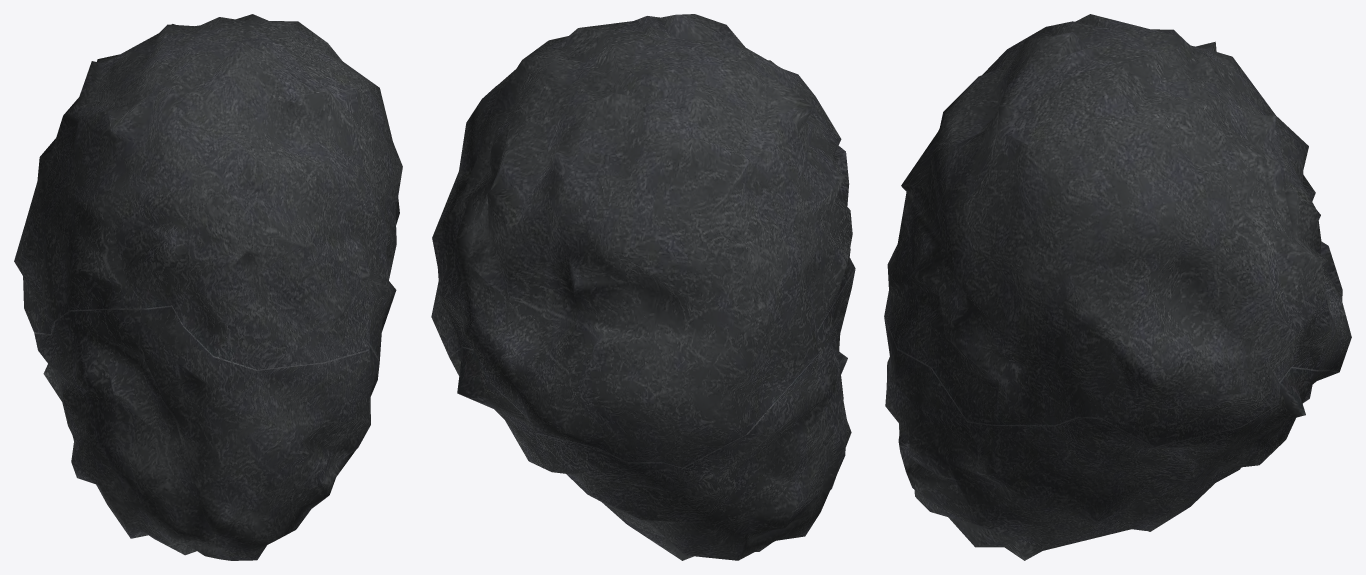
File: asteroid.glb
The picture shows the model from 3 angles, left to right: view 1: azimuth 30°, elevation 25°; view 2: azimuth 150°, elevation 25°; view 3: azimuth 270°, elevation 25°; orthographic projection. The views are drawn at different scales.
Visible parts, largest first — view 1: Object_2; view 2: Object_2; view 3: Object_2.
Part boxes in pixels (box(x1,y1,x2,y2)): Object_2: box(14, 14, 402, 560); Object_2: box(431, 14, 855, 560); Object_2: box(884, 14, 1351, 560).
Size of the model in its own units: 2.25 by 3.14 by 2.47.
Materials: 1 (1 with a texture image).
